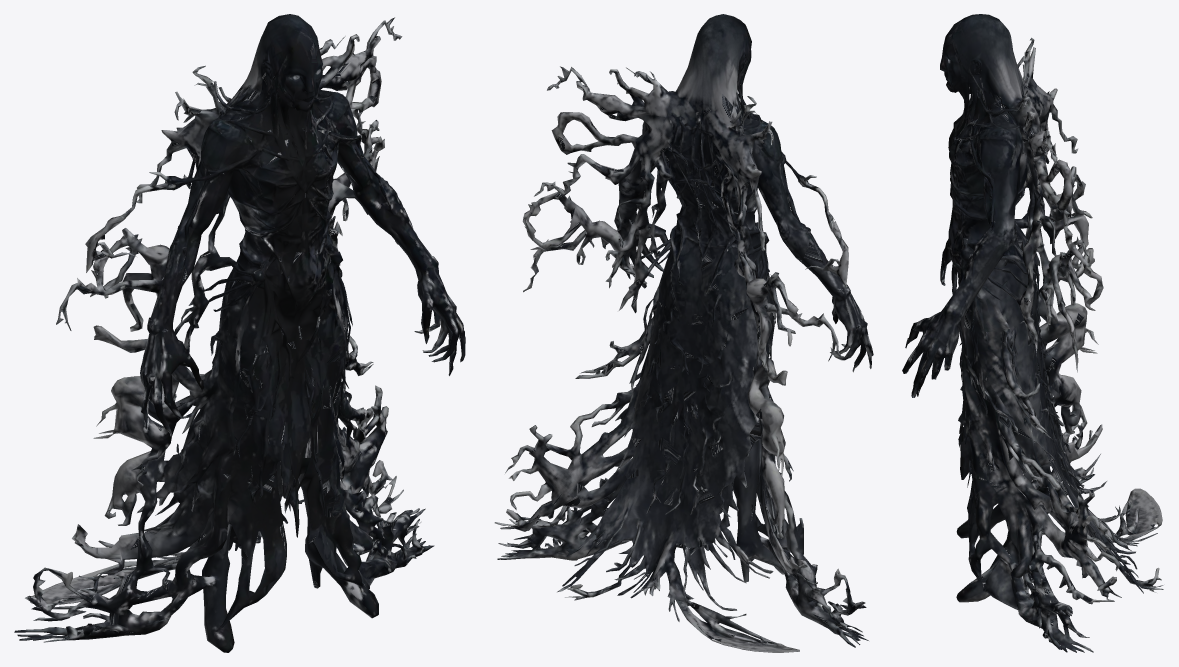
The model's file is shadow.glb.
The picture shows the model from 3 angles, left to right: view 1: azimuth 30°, elevation 25°; view 2: azimuth 150°, elevation 25°; view 3: azimuth 270°, elevation 25°; orthographic projection. The views are drawn at different scales.
Parts seen in each view (by area): view 1: shadow; view 2: shadow; view 3: shadow.
Boxes of the visible parts, x1,y1,x2,y2 form: shadow: (14,14,465,652); shadow: (494,14,873,652); shadow: (902,14,1163,652).
Size of the model in its own units: 0.6836 by 0.9786 by 0.4191.
Materials: 1 (1 with a texture image).
